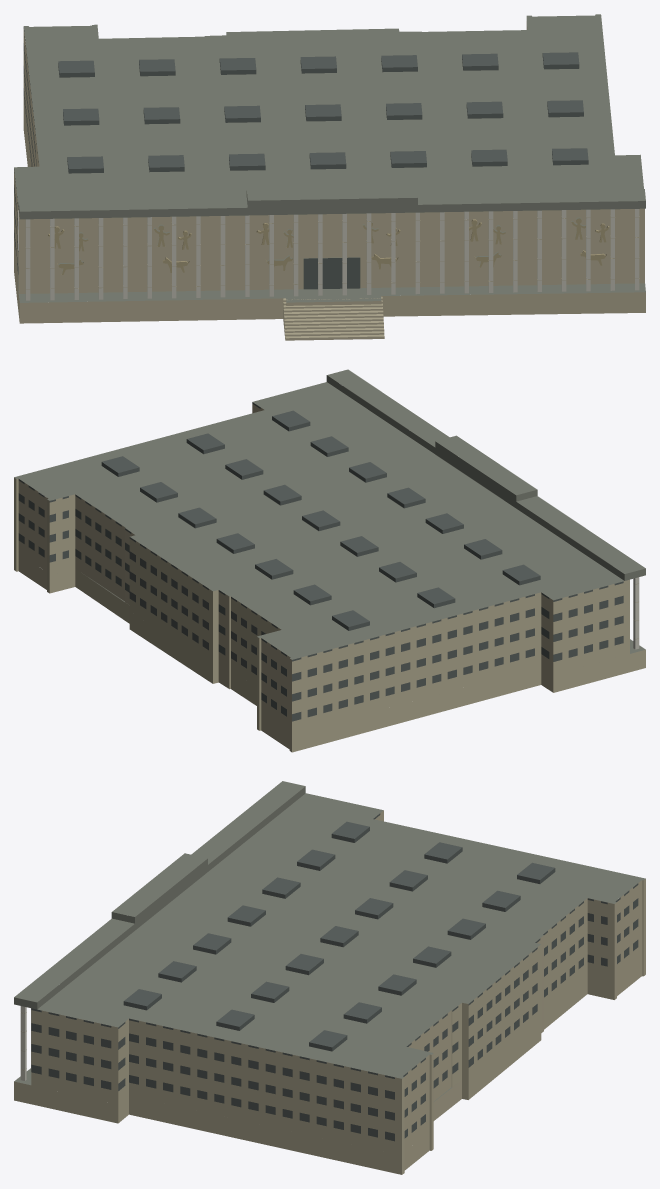
The model's file is palais-de-la-porte-doree-near.glb.
The picture shows the model from 3 angles, top to bottom: view 1: azimuth 30°, elevation 25°; view 2: azimuth 150°, elevation 25°; view 3: azimuth 270°, elevation 25°; orthographic projection. The views are drawn at different scales.
Visible parts, largest first — view 1: palais-de-la-porte-doree-0-roof, palais-de-la-porte-doree-0-stone, palais-de-la-porte-doree-0-glass, palais-de-la-porte-doree-0-frame, palais-de-la-porte-doree-0-relief; view 2: palais-de-la-porte-doree-0-roof, palais-de-la-porte-doree-0-stone, palais-de-la-porte-doree-0-glass; view 3: palais-de-la-porte-doree-0-roof, palais-de-la-porte-doree-0-stone, palais-de-la-porte-doree-0-glass, palais-de-la-porte-doree-0-frame.
Boxes of the visible parts, left/top/right/bottom form: palais-de-la-porte-doree-0-roof: left=14, top=14, right=645, bottom=302; palais-de-la-porte-doree-0-stone: left=14, top=21, right=645, bottom=340; palais-de-la-porte-doree-0-glass: left=14, top=27, right=588, bottom=289; palais-de-la-porte-doree-0-frame: left=25, top=209, right=639, bottom=300; palais-de-la-porte-doree-0-relief: left=48, top=218, right=609, bottom=274; palais-de-la-porte-doree-0-roof: left=14, top=369, right=645, bottom=659; palais-de-la-porte-doree-0-stone: left=14, top=404, right=645, bottom=752; palais-de-la-porte-doree-0-glass: left=18, top=402, right=623, bottom=721; palais-de-la-porte-doree-0-roof: left=14, top=781, right=645, bottom=1101; palais-de-la-porte-doree-0-stone: left=14, top=810, right=645, bottom=1174; palais-de-la-porte-doree-0-glass: left=31, top=813, right=638, bottom=1141; palais-de-la-porte-doree-0-frame: left=20, top=1006, right=31, bottom=1080.
Size of the model in its own units: 105 by 18.5 by 96.59.
